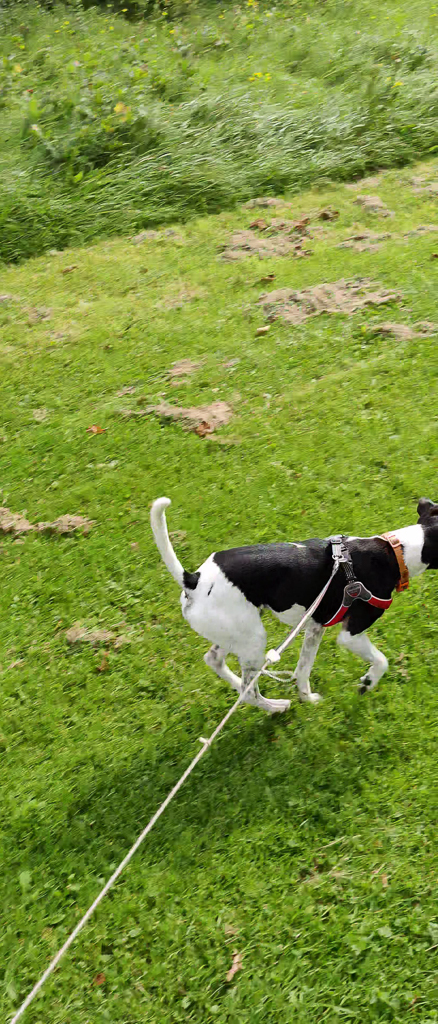Dog: (132, 481, 438, 732)
